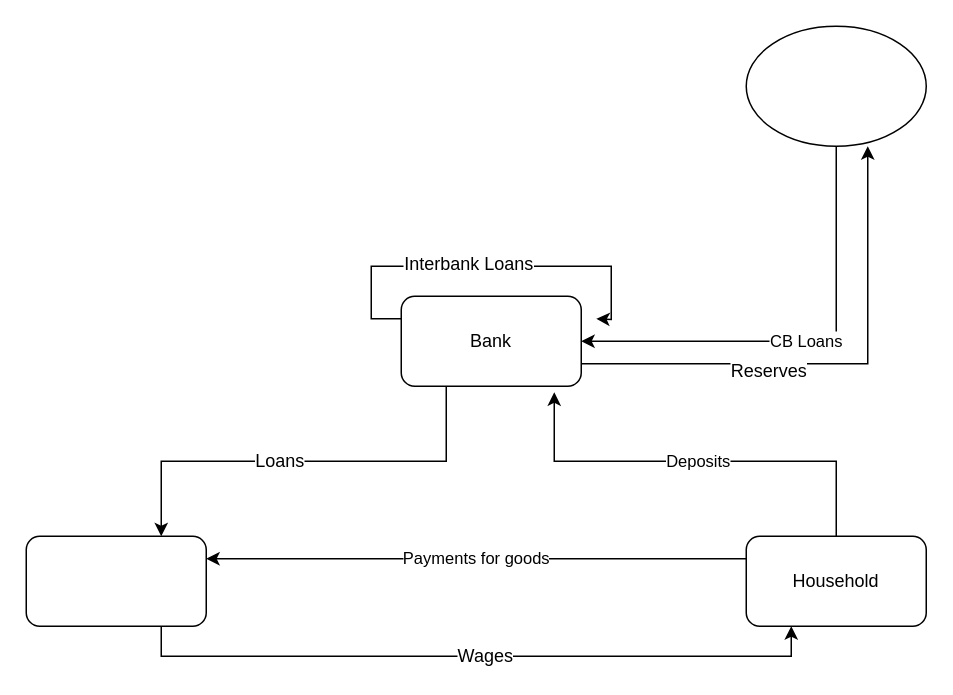
This 953x695 diagram has some shape labels left out. The box of each missing label's shape, as (x1, y1, x2, y2) in pixels:
Central Bank: (745, 25, 926, 146)
Firm: (25, 535, 206, 626)
